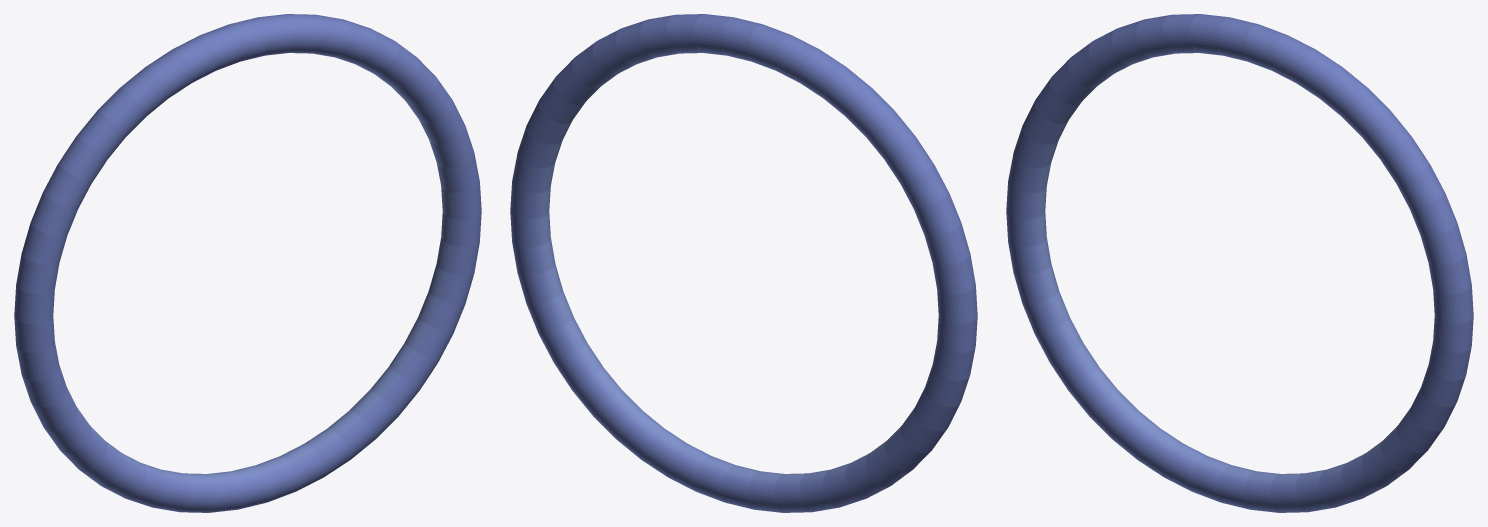
3 renders of one model, left to right at view 1: azimuth 30°, elevation 25°; view 2: azimuth 150°, elevation 25°; view 3: azimuth 330°, elevation 25°, orthographic.
Parts seen in each view (by area): view 1: world; view 2: world; view 3: world.
Part boxes in pixels (bbox=[...]): world: bbox=[14, 14, 481, 512]; world: bbox=[510, 14, 977, 512]; world: bbox=[1006, 14, 1473, 512].
Bounding box in the file's own units: 27.33 × 27.28 × 2.
